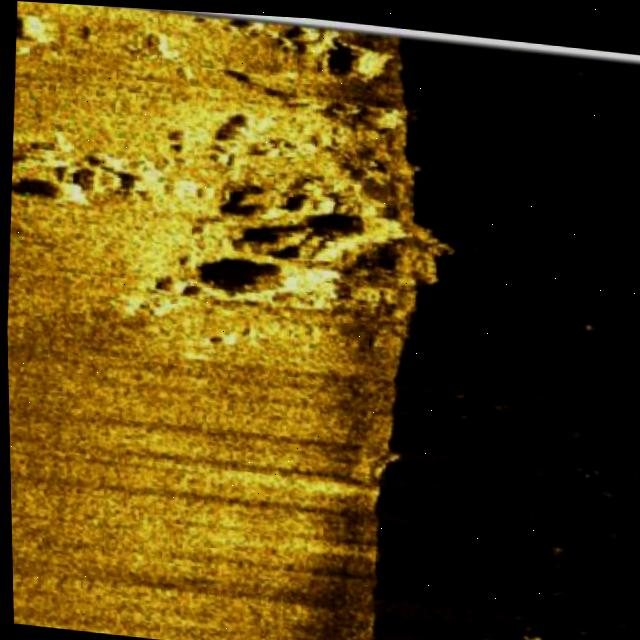bedrock group: (1, 0, 465, 339)
